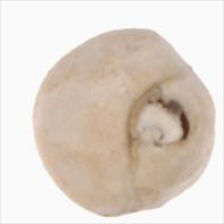L3: (117, 81, 191, 158)
L4: (33, 29, 217, 217)
